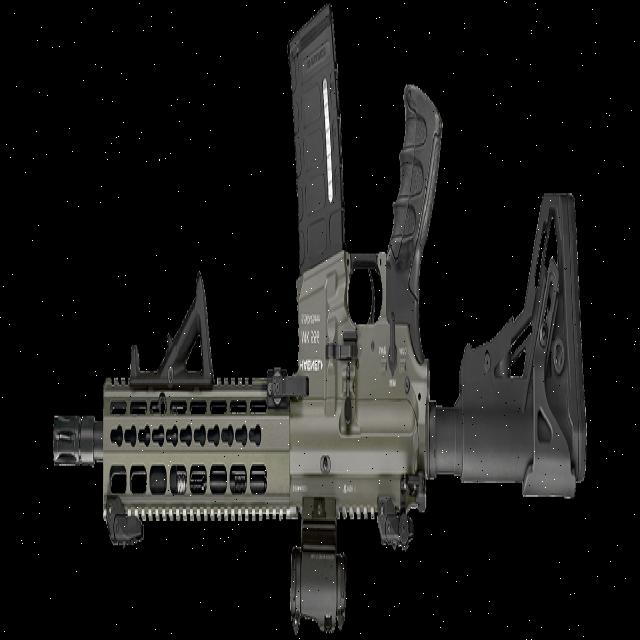Automaticrifle: (0, 0, 597, 621)
